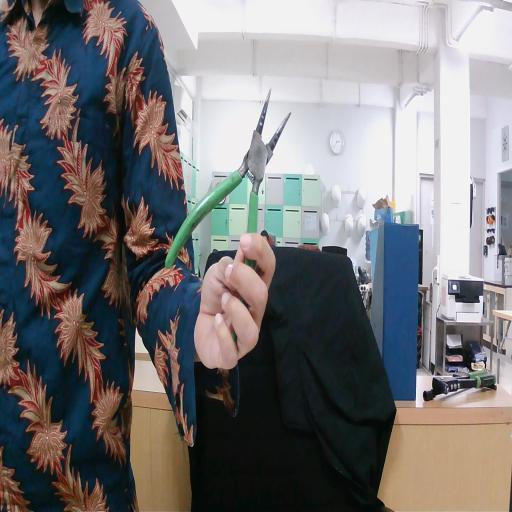tang_scun_hidrolik: (158, 84, 302, 372)
